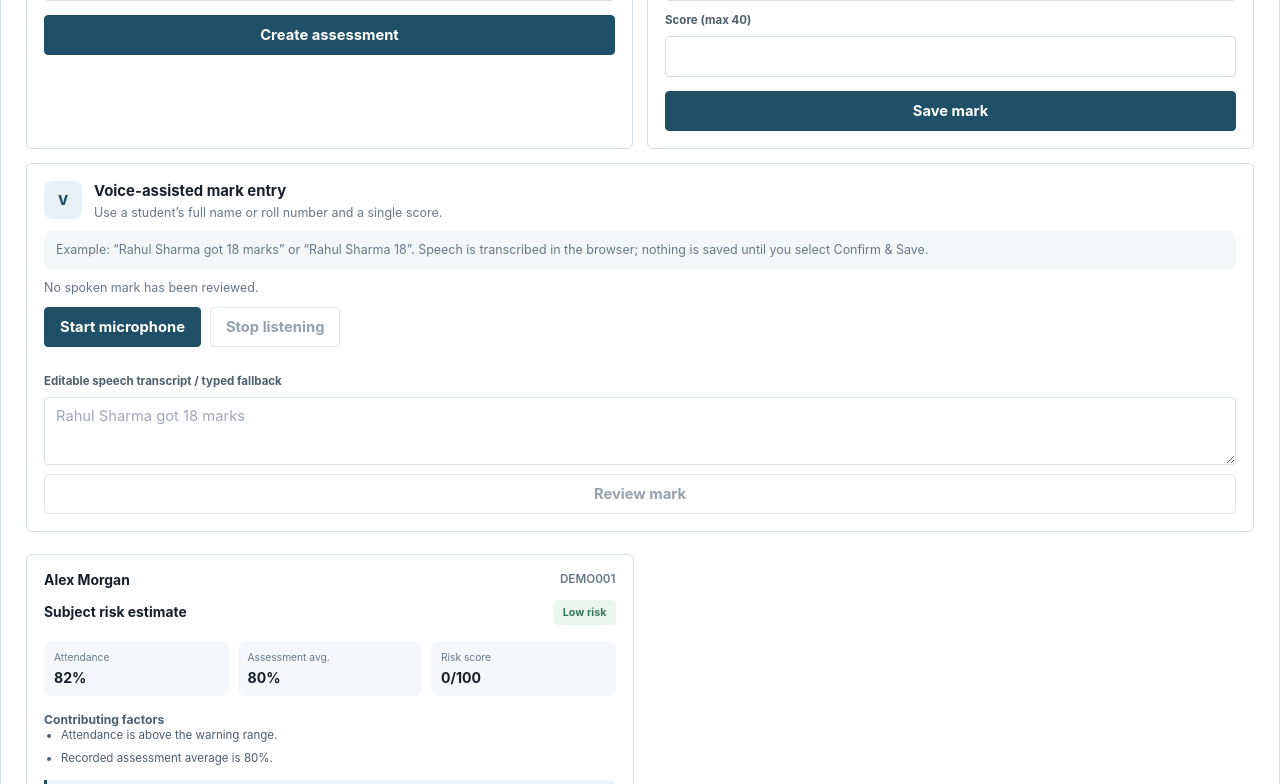
it: academic workspace › requires a reviewed voice mark proposal before saving
(page scrolled)
In the text box labelled "Editable speech transcript / typed fallback": [640, 431] box [44,397,1236,465], type "Alex Morgan got 18 marks"
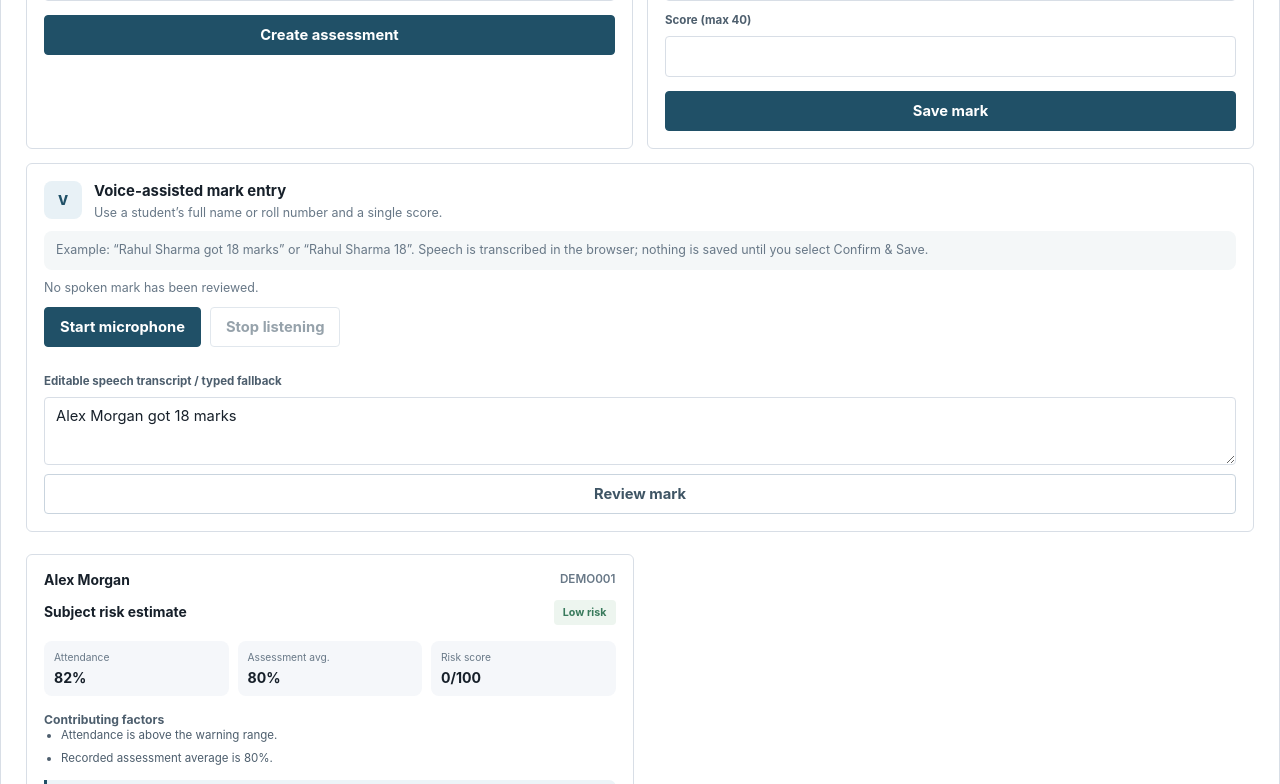
Click the button "Review mark": [640, 494] box [44,474,1236,514]
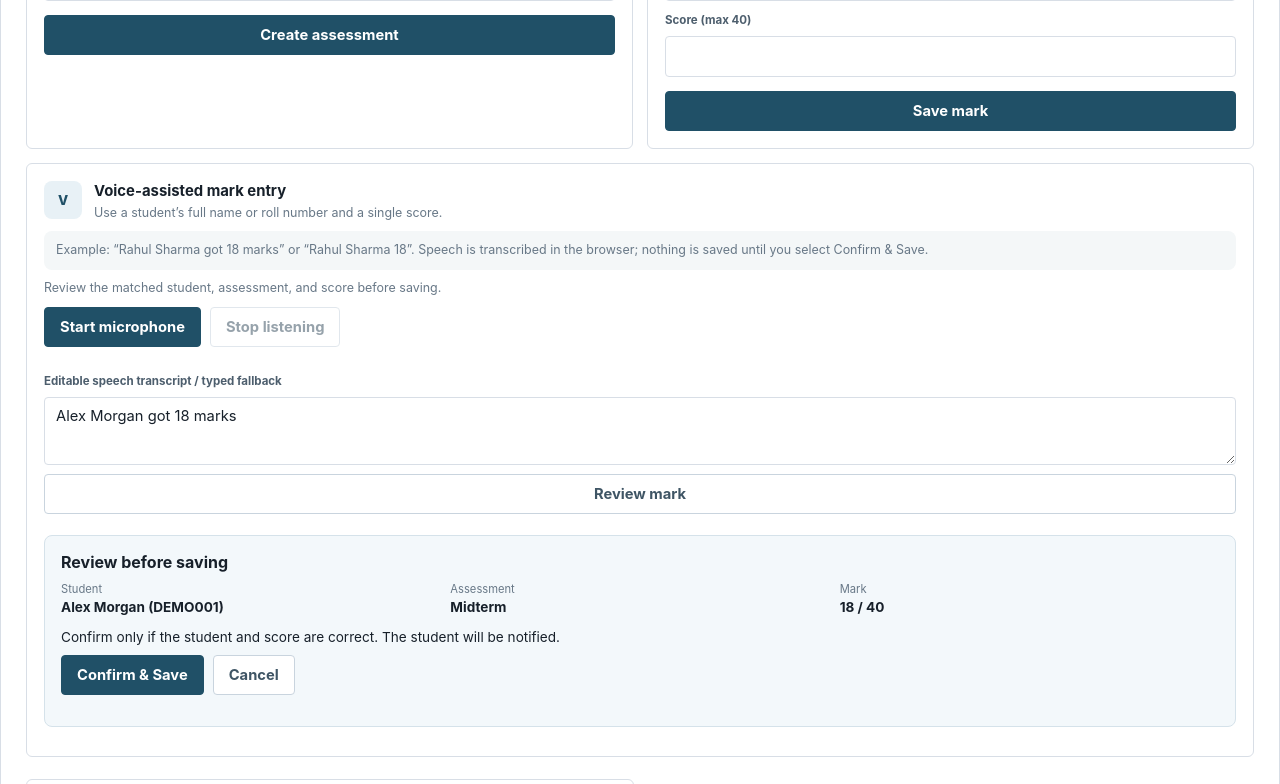
Result: the element named "Voice mark confirmation" shows "18 / 40" at [44,535,1236,727]
Click the button "Confirm & Save": [132, 675] box [61,655,204,695]
(page scrolled)
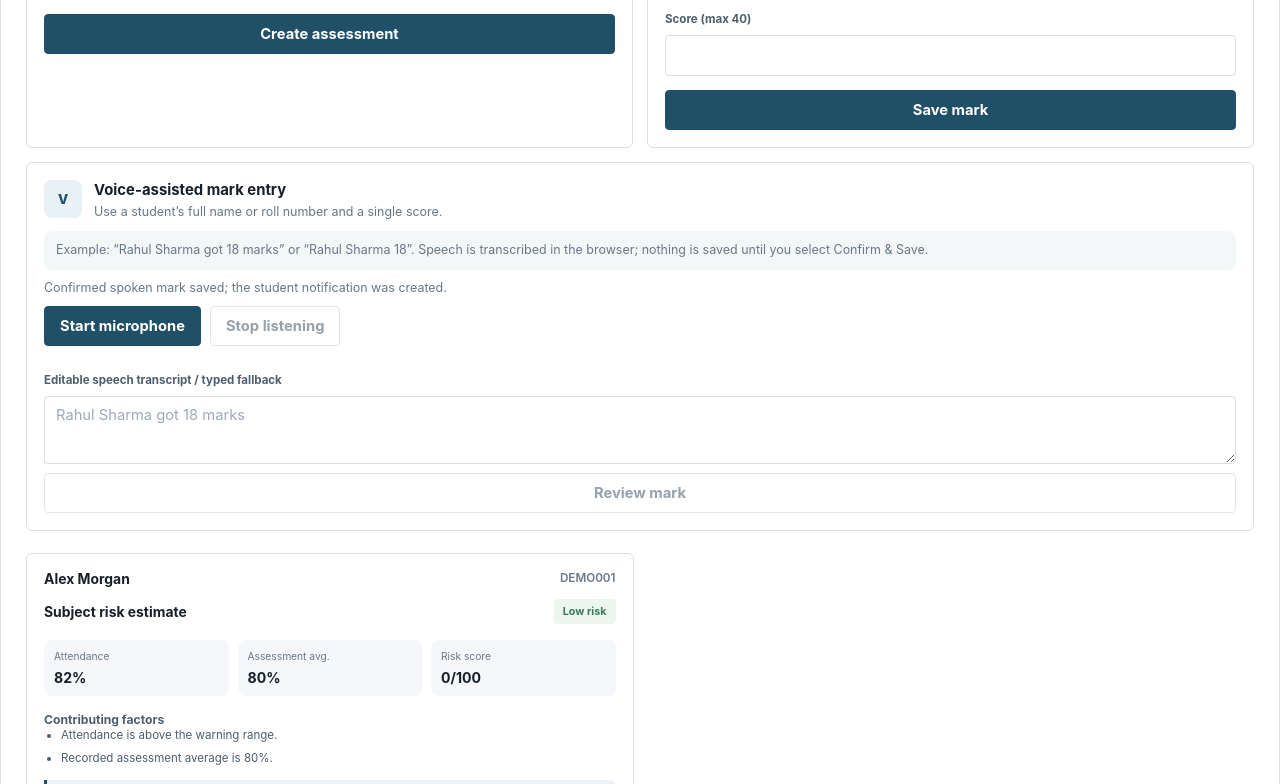
Result: the text "Confirmed spoken mark saved; the student notification was created." is shown at [44,280,447,295]
